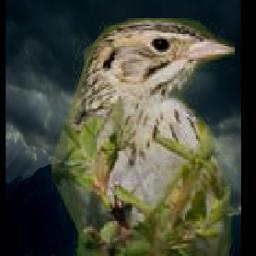Sparrow: (52, 18, 236, 256)
